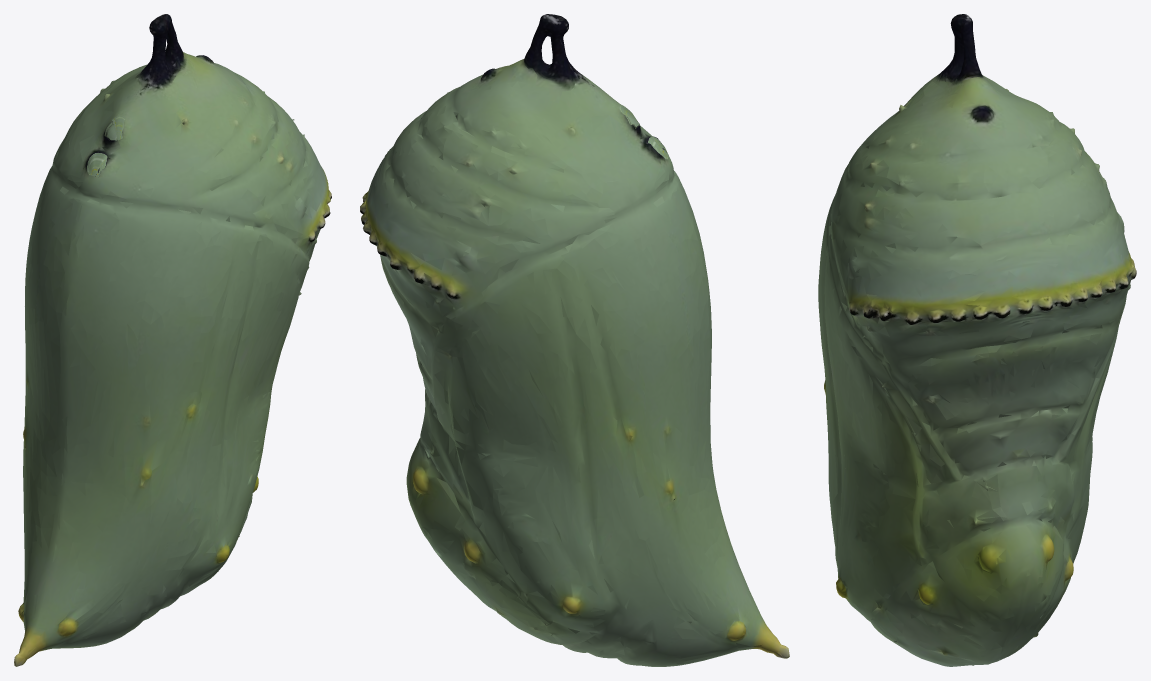
File: crisalida_danaus.fbx
3 views of the same model, side by side, from view 1: azimuth 30°, elevation 25°; view 2: azimuth 150°, elevation 25°; view 3: azimuth 270°, elevation 25° (orthographic). The views are drawn at different scales.
Visible parts, largest first — view 1: tripo_node_4cc94339; view 2: tripo_node_4cc94339; view 3: tripo_node_4cc94339.
Part boxes in pixels (<box>): tripo_node_4cc94339: <box>14,14,331,666</box>; tripo_node_4cc94339: <box>360,14,789,666</box>; tripo_node_4cc94339: <box>818,14,1136,666</box>.
Size of the model in its own units: 1.16 by 1.91 by 0.8244.
Materials: 1 (1 with a texture image).
